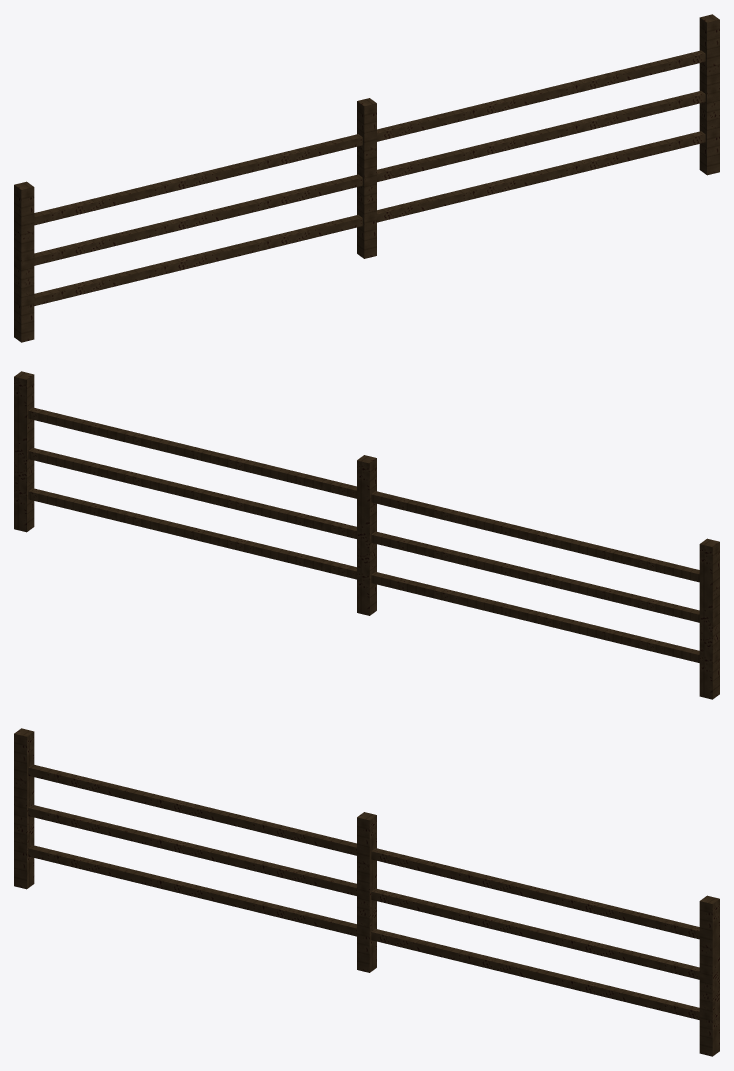
File: RURAL_cerca_rustica.gltf
3 renders of one model, top to bottom at view 1: azimuth 30°, elevation 25°; view 2: azimuth 150°, elevation 25°; view 3: azimuth 330°, elevation 25°, orthographic.
Parts seen in each view (by area): view 1: cerca_rustica_TRAVESSA, cerca_rustica_MOURAO; view 2: cerca_rustica_TRAVESSA, cerca_rustica_MOURAO; view 3: cerca_rustica_TRAVESSA, cerca_rustica_MOURAO.
Part boxes in pixels (<box>): cerca_rustica_TRAVESSA: <box>34,50,705,305</box>; cerca_rustica_MOURAO: <box>14,14,719,342</box>; cerca_rustica_TRAVESSA: <box>28,407,699,662</box>; cerca_rustica_MOURAO: <box>14,371,719,699</box>; cerca_rustica_TRAVESSA: <box>28,764,699,1019</box>; cerca_rustica_MOURAO: <box>14,728,719,1056</box>.
Bounding box in the file's own units: 8.15 × 1.7 × 0.15.
1 material, 1 textured.
